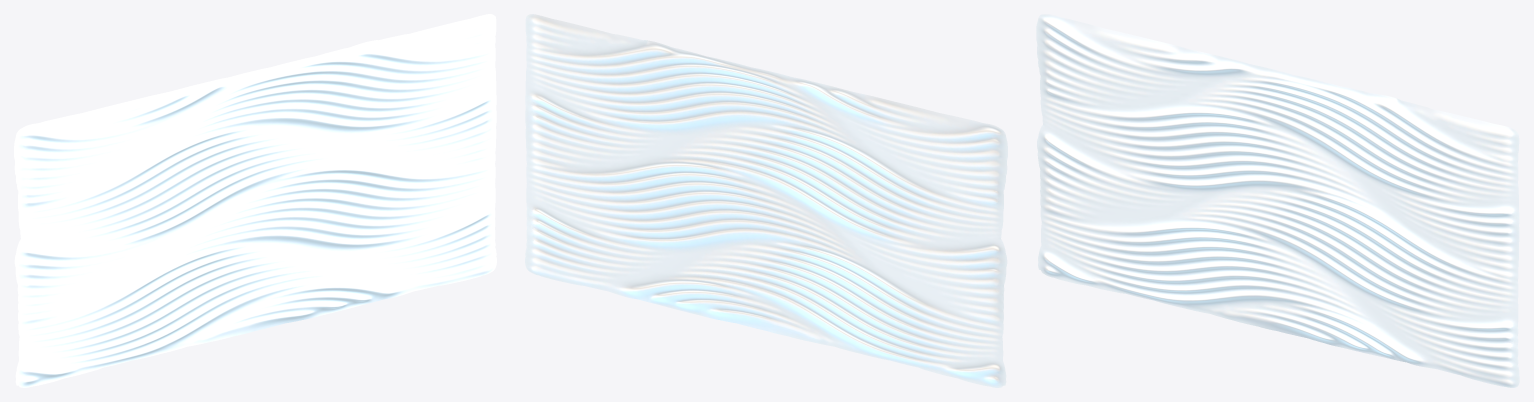
File: contour.glb
3 renders of one model, left to right at view 1: azimuth 30°, elevation 25°; view 2: azimuth 150°, elevation 25°; view 3: azimuth 330°, elevation 25°, orthographic.
Parts seen in each view (by area): view 1: Untitled.002; view 2: Untitled.002; view 3: Untitled.002.
Part boxes in pixels (left/top/right/bottom): Untitled.002: left=14, top=14, right=496, bottom=387; Untitled.002: left=525, top=14, right=1007, bottom=387; Untitled.002: left=1036, top=14, right=1519, bottom=387.
Size of the model in its own units: 26.02 by 13.57 by 0.235.
1 material, 1 textured.
